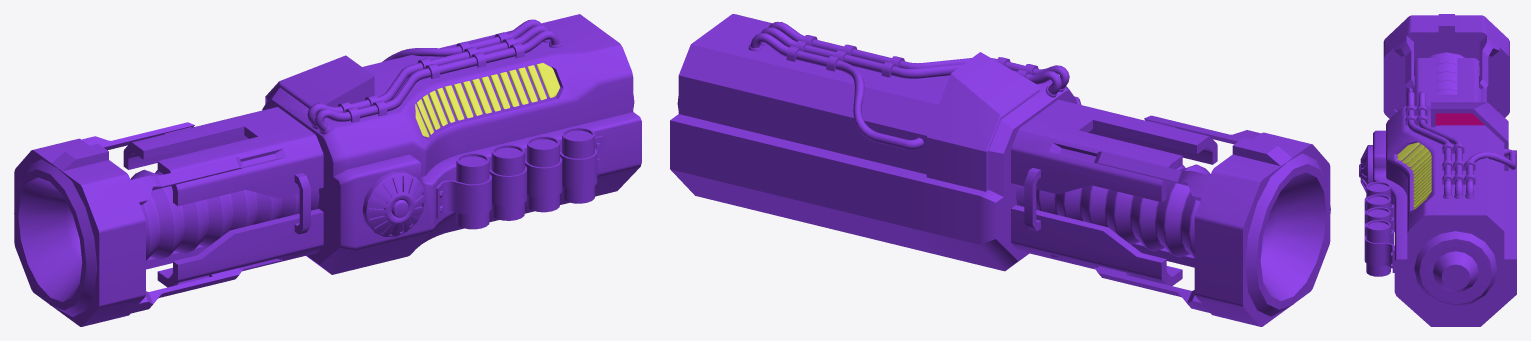
File: SM_Gun.fbx
3 renders of one model, left to right at view 1: azimuth 30°, elevation 25°; view 2: azimuth 150°, elevation 25°; view 3: azimuth 270°, elevation 25°, orthographic. The views are drawn at different scales.
Parts seen in each view (by area): view 1: SM_Gun_Body, SM_Gun_Moveble; view 2: SM_Gun_Body, SM_Gun_Moveble; view 3: SM_Gun_Body, SM_Gun_Moveble.
Part boxes in pixels (bbox=[...]): SM_Gun_Body: bbox=[123, 14, 641, 287]; SM_Gun_Moveble: bbox=[14, 122, 319, 326]; SM_Gun_Body: bbox=[670, 14, 1217, 285]; SM_Gun_Moveble: bbox=[1015, 115, 1330, 326]; SM_Gun_Body: bbox=[1359, 58, 1516, 326]; SM_Gun_Moveble: bbox=[1383, 14, 1509, 118].
Bounding box in the file's own units: 122 × 35.12 × 38.57.
